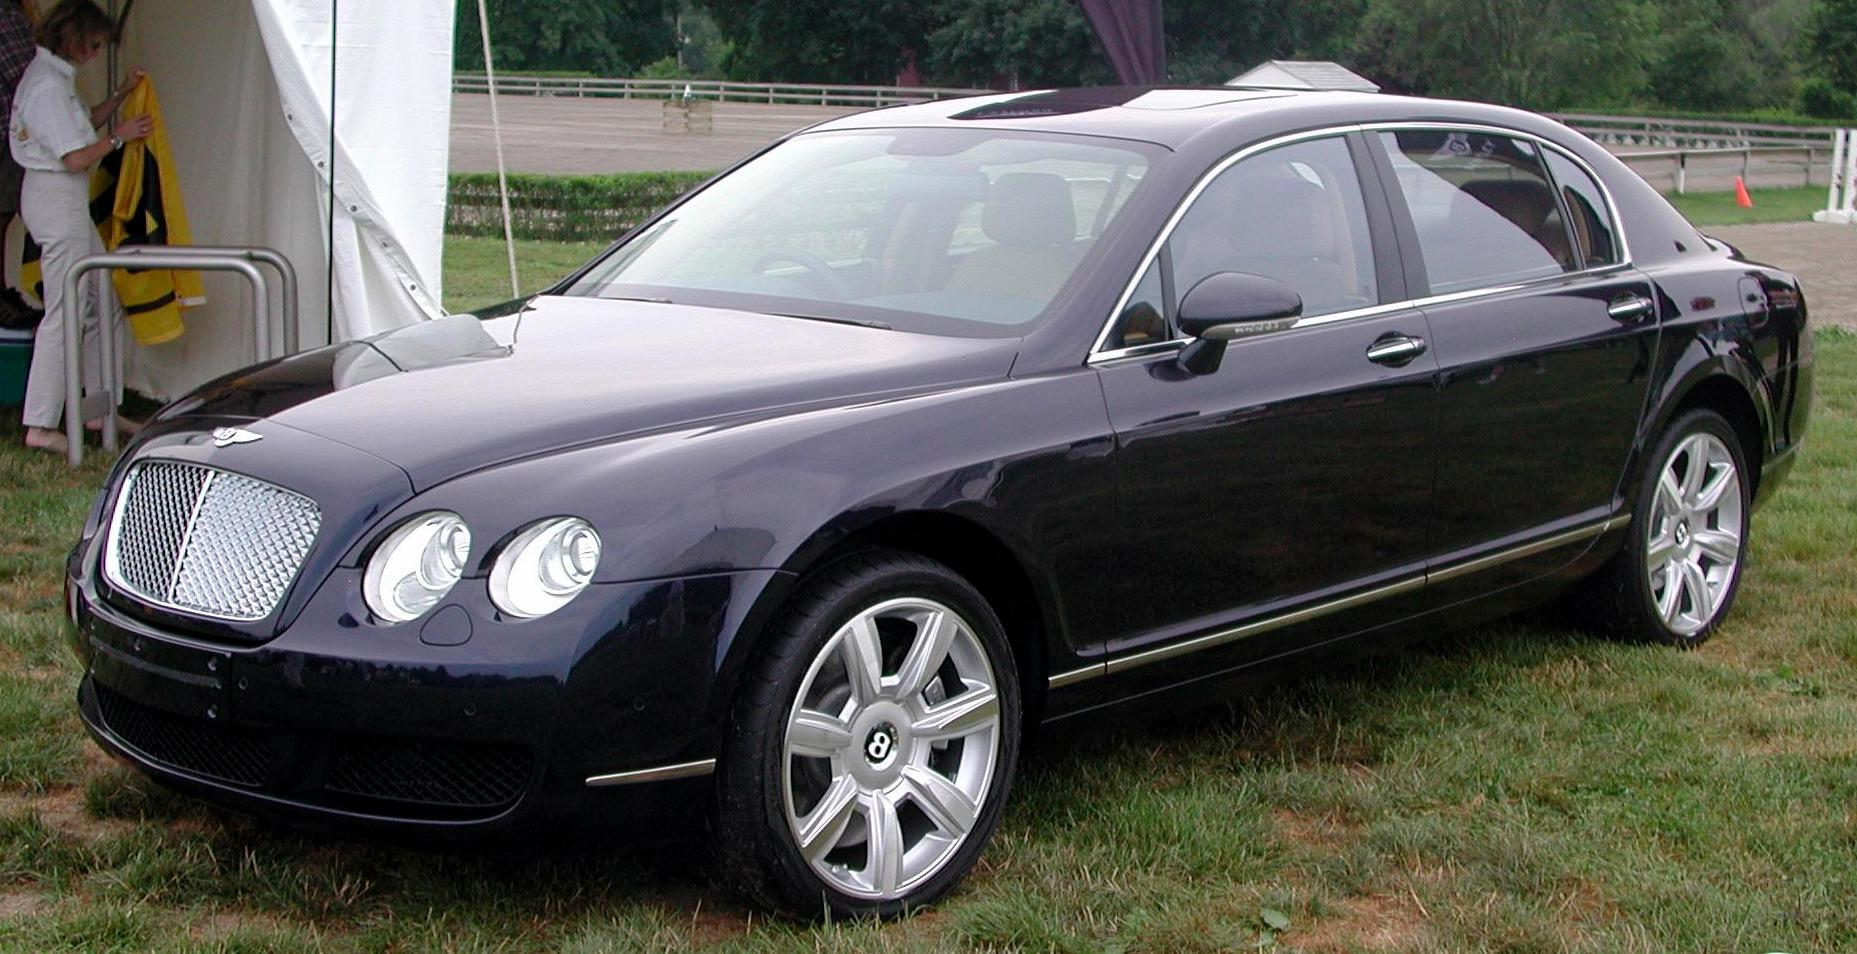Car: (2, 34, 1851, 954)
